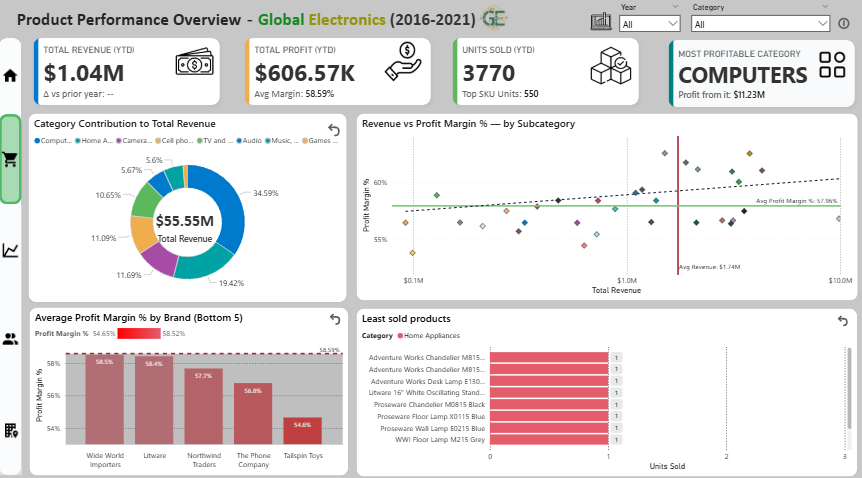

What the dashboard file says about the page in this screenshot:
{"tool":"powerbi","page":{"name":"Products","canvas":[1600,900],"ordinal":1},"visuals":[{"type":"textbox","box":[28.3,8.3,870,60],"z":0},{"type":"cardVisual","fields":{"Data":["sales_final.Total Revenue YTD"]},"box":[52.5,57.5,370,150],"z":0,"group":"g1"},{"type":"cardVisual","fields":{"Data":["sales_final.Units Sold YTD"]},"box":[827.5,57.5,370,150],"z":0,"group":"g3"},{"type":"cardVisual","fields":{"Data":["sales_final.Total Profit YTD"]},"box":[442,58,370,150],"z":0,"group":"g2"},{"type":"cardVisual","fields":{"Data":["sales_final.Top Category Name"]},"box":[1228,62,370,150],"z":0,"group":"g4"},{"type":"shape","box":[0,70.7,41.4,809.2],"z":0,"group":"g8"},{"type":"donutChart","title":"Category Contribution to Total Revenue","fields":{"Y":["sales_final.Total Revenue"],"Category":["products.Category"]},"box":[53.2,209.1,594,349.4],"z":0,"group":"g5"},{"type":"clusteredBarChart","title":"Top 8 Products by Units Sold","fields":{"Category":["products.Product_Name"],"Y":["sales_final.Units Sold"],"Series":["products.Category"]},"box":[661.2,568.8,930,313.6],"z":0,"group":"g7"},{"type":"columnChart","title":"Average Profit Margin % by Brand (Top 5)","fields":{"Category":["products.Brand"],"Y":["sales_final.Profit Margin %"]},"box":[55,570.3,591.8,313.4],"z":0,"group":"g6"},{"type":"group","id":"g1","title":"Card_1","box":[52.5,57.5,370,150],"z":1000},{"type":"image","box":[709.5,73,77.5,82.5],"z":1000,"group":"g2"},{"type":"image","box":[323.7,73.7,80,77.5],"z":1000,"group":"g1"},{"type":"image","box":[1091.3,81.3,85,80],"z":1000,"group":"g3"},{"type":"image","box":[1510,92.5,67.5,57.5],"z":1000,"group":"g4"},{"type":"actionButton","box":[0,212,42,167.5],"z":1000,"group":"g8"},{"type":"card","fields":{"Values":["sales_final.Total Revenue"]},"box":[265.9,371.9,165,79],"z":1000,"group":"g5"},{"type":"actionButton","box":[607.1,570,31,38.1],"z":1000,"group":"g6"},{"type":"actionButton","box":[1546.9,576.5,29,30],"z":1000,"group":"g7"},{"type":"group","id":"g2","title":"Card_2","box":[442,58,370,150],"z":2000},{"type":"actionButton","box":[604.9,215.9,37.5,33.8],"z":2000,"group":"g5"},{"type":"actionButton","box":[0,379.5,42,167.5],"z":2000,"group":"g8"},{"type":"group","id":"g3","title":"Card_3","box":[827.5,57.5,370,150],"z":3000},{"type":"actionButton","box":[0,712.5,42,167.5],"z":3000,"group":"g8"},{"type":"group","id":"g4","title":"Card_4","box":[1228,62,370,150],"z":3500},{"type":"scatterChart","title":"Revenue vs Profit Margin % — by Subcategory","fields":{"X":["sales_final.Total Revenue"],"Y":["sales_final.Profit Margin %"],"Category":["products.Subcategory"]},"box":[661.2,210,930,347.5],"z":4000},{"type":"actionButton","box":[0,545,42,167.5],"z":4000,"group":"g8"},{"type":"actionButton","box":[0,71.3,41.4,140.2],"z":4500,"group":"g8"},{"type":"actionButton","title":"Info_button","box":[1549.1,28.2,29.1,30.9],"z":5000},{"type":"image","title":"Logo","box":[872.7,4.5,86.4,60],"z":6000},{"type":"group","id":"g5","title":"Pie_top","box":[53.2,209.1,593.5,348.1],"z":7000},{"type":"group","id":"g6","title":"Column_top5","box":[55,570,591.7,313.3],"z":9000},{"type":"group","id":"g7","title":"Bar_top8","box":[661.2,568.8,930,312.5],"z":11000},{"type":"image","title":"More_visuals","box":[1090,14.3,48.6,48.6],"z":13000},{"type":"slicer","fields":{"Values":["Calendar.Year"]},"box":[1138.6,0,132.9,68.6],"z":14000},{"type":"slicer","fields":{"Values":["products.Category"]},"box":[1271.4,0,277.1,68.6],"z":15000},{"type":"group","id":"g8","title":"Page_nav","box":[0,70.7,42,809.3],"z":16000}]}

Visuals, with their boxes on the page's 1600x900 design canvas (x1, y1, x2, y2). These are canvas units, not pixel positions in the 862x478 screenshot, which may show the page scaled, cropped or inside an application window:
textbox: Rect(28, 8, 898, 68)
cardVisual - sales_final.Total Revenue YTD: Rect(52, 58, 422, 208)
cardVisual - sales_final.Units Sold YTD: Rect(828, 58, 1198, 208)
cardVisual - sales_final.Total Profit YTD: Rect(442, 58, 812, 208)
cardVisual - sales_final.Top Category Name: Rect(1228, 62, 1598, 212)
shape: Rect(0, 71, 41, 880)
"Category Contribution to Total Revenue" donutChart: Rect(53, 209, 647, 558)
"Top 8 Products by Units Sold" clusteredBarChart: Rect(661, 569, 1591, 882)
"Average Profit Margin % by Brand (Top 5)" columnChart: Rect(55, 570, 647, 884)
"Card_1" group: Rect(52, 58, 422, 208)
image: Rect(710, 73, 787, 156)
image: Rect(324, 74, 404, 151)
image: Rect(1091, 81, 1176, 161)
image: Rect(1510, 92, 1578, 150)
actionButton: Rect(0, 212, 42, 380)
card - sales_final.Total Revenue: Rect(266, 372, 431, 451)
actionButton: Rect(607, 570, 638, 608)
actionButton: Rect(1547, 576, 1576, 606)
"Card_2" group: Rect(442, 58, 812, 208)
actionButton: Rect(605, 216, 642, 250)
actionButton: Rect(0, 380, 42, 547)
"Card_3" group: Rect(828, 58, 1198, 208)
actionButton: Rect(0, 712, 42, 880)
"Card_4" group: Rect(1228, 62, 1598, 212)
"Revenue vs Profit Margin % — by Subcategory" scatterChart: Rect(661, 210, 1591, 558)
actionButton: Rect(0, 545, 42, 712)
actionButton: Rect(0, 71, 41, 212)
"Info_button" actionButton: Rect(1549, 28, 1578, 59)
"Logo" image: Rect(873, 4, 959, 64)
"Pie_top" group: Rect(53, 209, 647, 557)
"Column_top5" group: Rect(55, 570, 647, 883)
"Bar_top8" group: Rect(661, 569, 1591, 881)
"More_visuals" image: Rect(1090, 14, 1139, 63)
slicer - Calendar.Year: Rect(1139, 0, 1272, 69)
slicer - products.Category: Rect(1271, 0, 1548, 69)
"Page_nav" group: Rect(0, 71, 42, 880)
